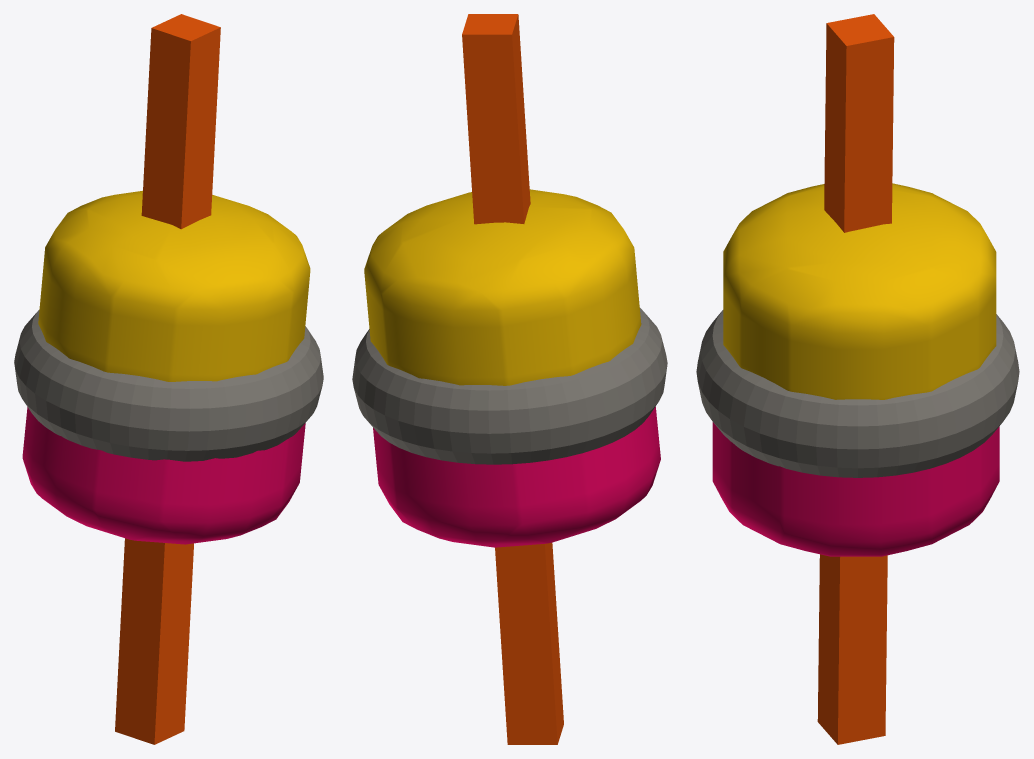
The picture shows the model from 3 angles, left to right: view 1: azimuth 30°, elevation 25°; view 2: azimuth 150°, elevation 25°; view 3: azimuth 270°, elevation 25°; orthographic projection. The views are drawn at different scales.
Visible parts, largest first — view 1: пидарас, Куб, Torus, хуила; view 2: пидарас, Torus, Куб, хуила; view 3: пидарас, Куб, Torus, хуила.
Part boxes in pixels (bbox=[...]): пидарас: bbox=[38, 190, 310, 381]; Куб: bbox=[115, 14, 220, 744]; Torus: bbox=[14, 309, 323, 461]; хуила: bbox=[22, 407, 305, 544]; пидарас: bbox=[364, 189, 641, 385]; Torus: bbox=[352, 307, 667, 464]; Куб: bbox=[462, 14, 563, 744]; хуила: bbox=[373, 406, 660, 547]; пидарас: bbox=[723, 183, 996, 399]; Куб: bbox=[817, 14, 894, 744]; Torus: bbox=[696, 310, 1019, 477]; хуила: bbox=[712, 422, 999, 556].
Size of the model in its own units: 169 by 418 by 169.
